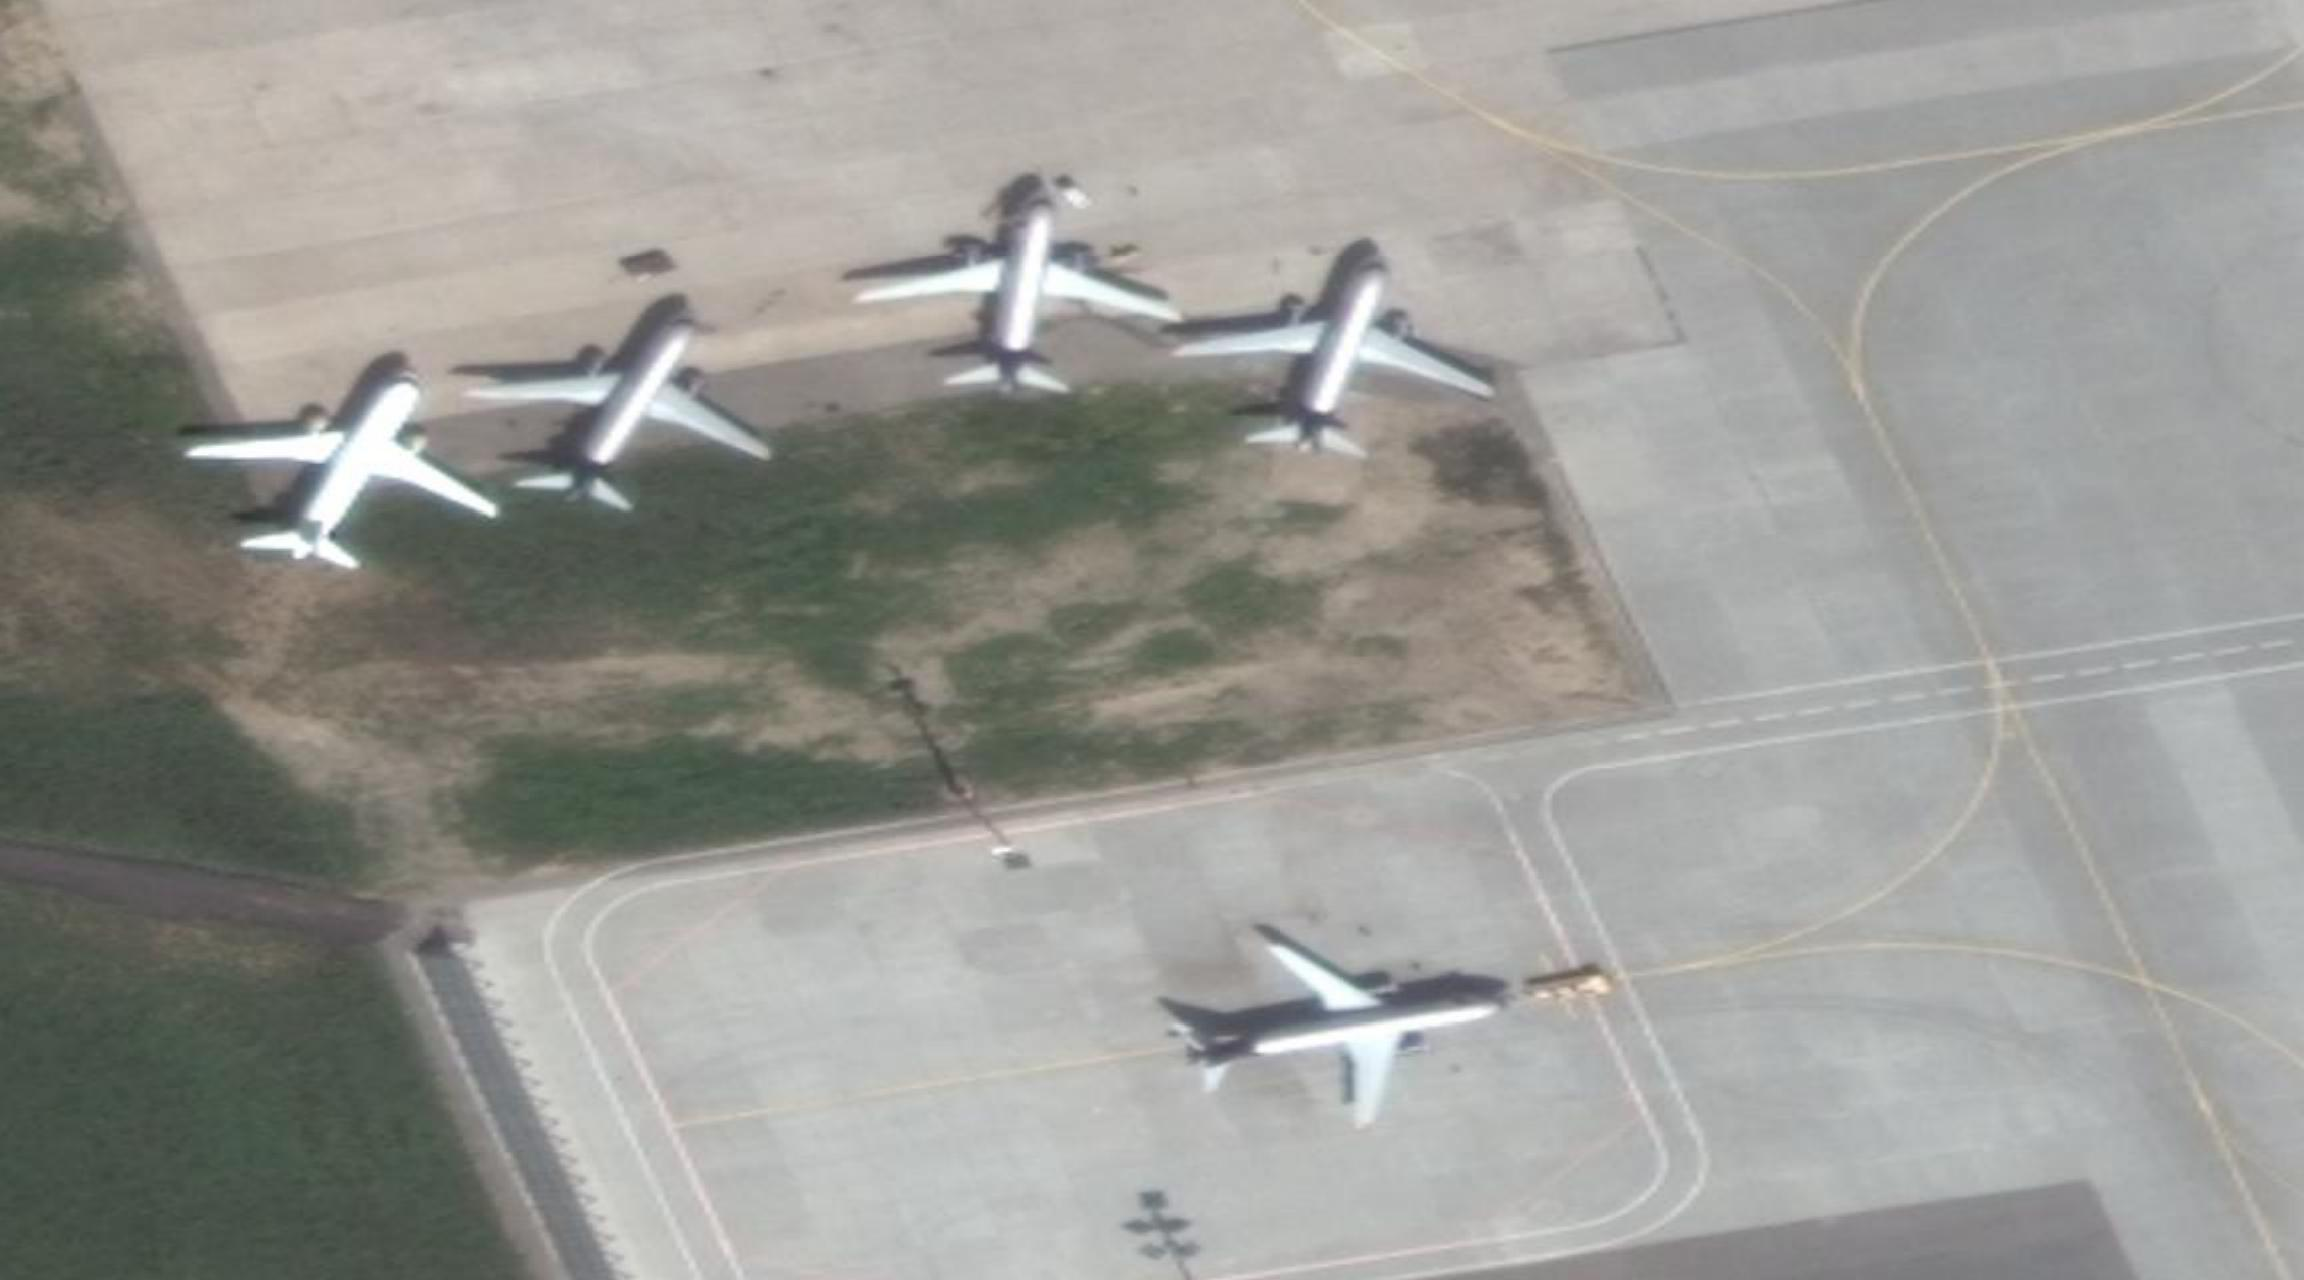plane: (158, 329, 536, 613), (459, 270, 815, 571), (1149, 897, 1522, 1155), (1154, 219, 1514, 482), (843, 180, 1184, 400)
